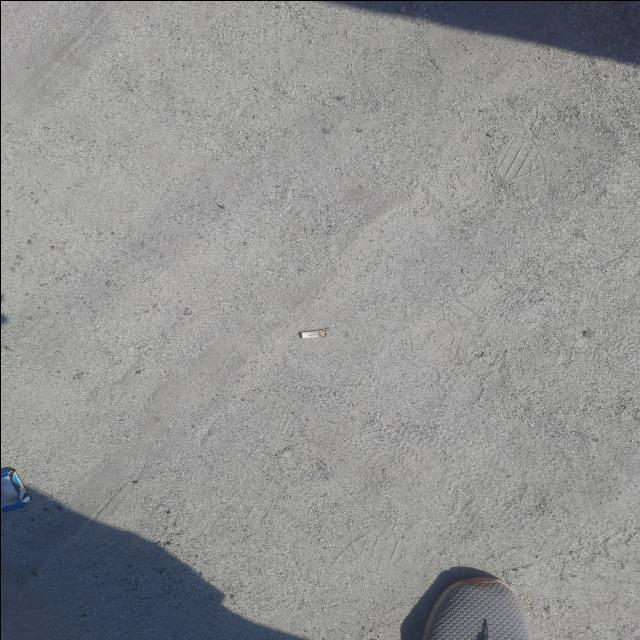Background: (2, 0, 638, 640)
Cig_bud: (298, 329, 325, 338)
